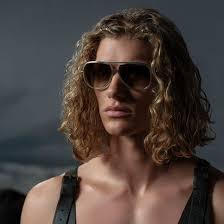sunglasses: (80, 57, 161, 97)
